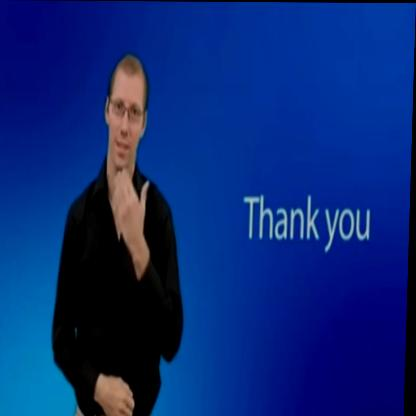ThankYou: (89, 46, 165, 286)
